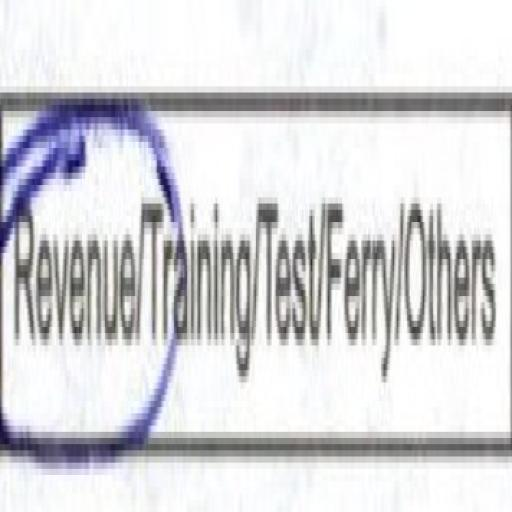check: (0, 0, 146, 512)
